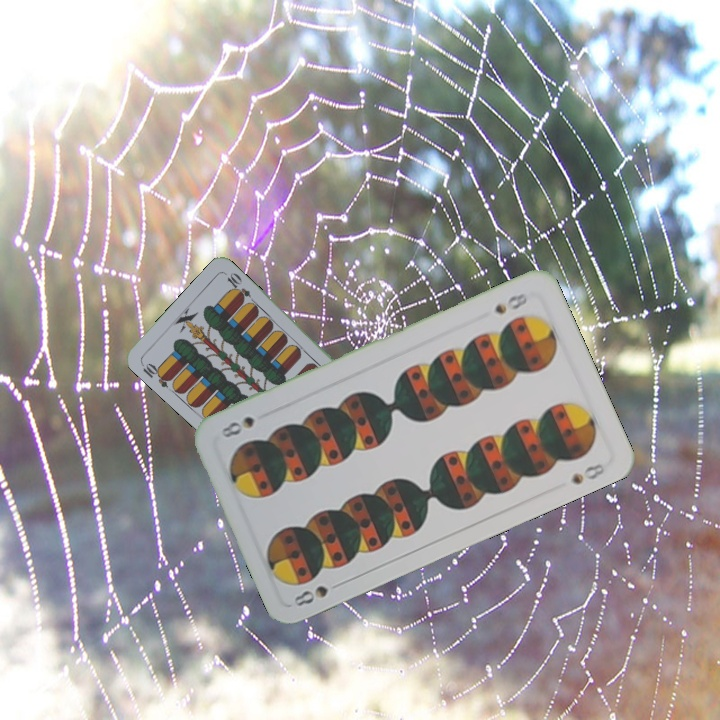E10: (137, 359, 174, 390)
S8: (289, 581, 331, 609), (490, 289, 530, 317)
